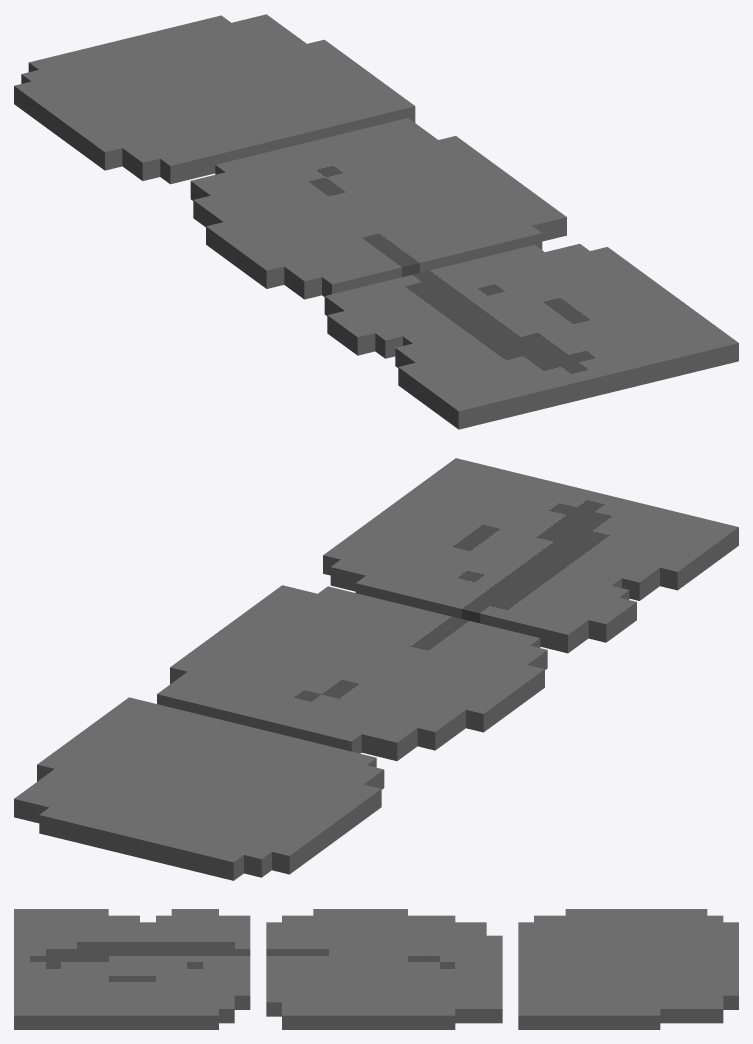
Rendered from obj_driveway2.fbx.
The picture shows the model from 3 angles, top to bottom: view 1: azimuth 30°, elevation 25°; view 2: azimuth 150°, elevation 25°; view 3: azimuth 270°, elevation 25°; orthographic projection. The views are drawn at different scales.
Visible parts, largest first — view 1: obj_driveway2; view 2: obj_driveway2; view 3: obj_driveway2.
Part boxes in pixels (<box>): obj_driveway2: <box>14,14,738,429</box>; obj_driveway2: <box>14,458,738,880</box>; obj_driveway2: <box>14,909,738,1029</box>.
Size of the model in its own units: 1.6 by 4.6 by 0.1.
1 material, 1 textured.
